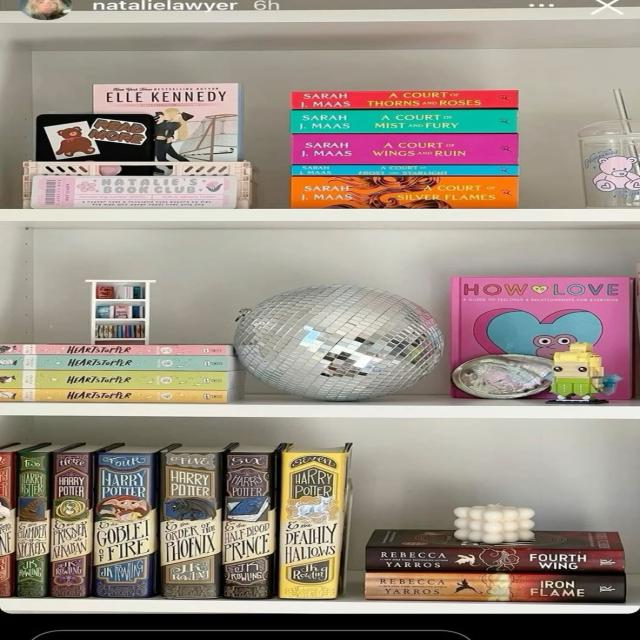book: (160, 452, 220, 599), (96, 453, 156, 598), (222, 452, 276, 598), (283, 453, 336, 600), (368, 546, 624, 574), (367, 573, 623, 601), (292, 177, 517, 208), (291, 135, 518, 164), (49, 451, 89, 597), (290, 110, 518, 132), (0, 369, 230, 390), (17, 452, 49, 597), (0, 355, 230, 370), (292, 92, 520, 107), (1, 389, 228, 402), (0, 447, 16, 597), (0, 344, 226, 354), (293, 166, 520, 174)
candle: (454, 504, 534, 544)
